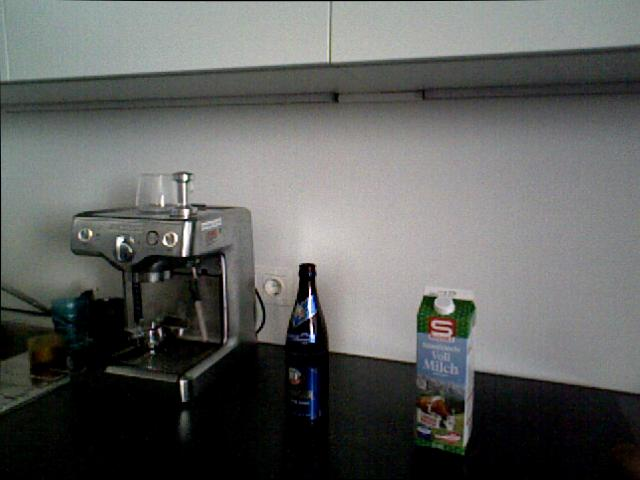bench: (409, 283, 481, 459), (283, 262, 330, 427)
couch: (0, 319, 61, 373)
handbag: (133, 166, 198, 219), (47, 294, 92, 350), (89, 294, 128, 348)
